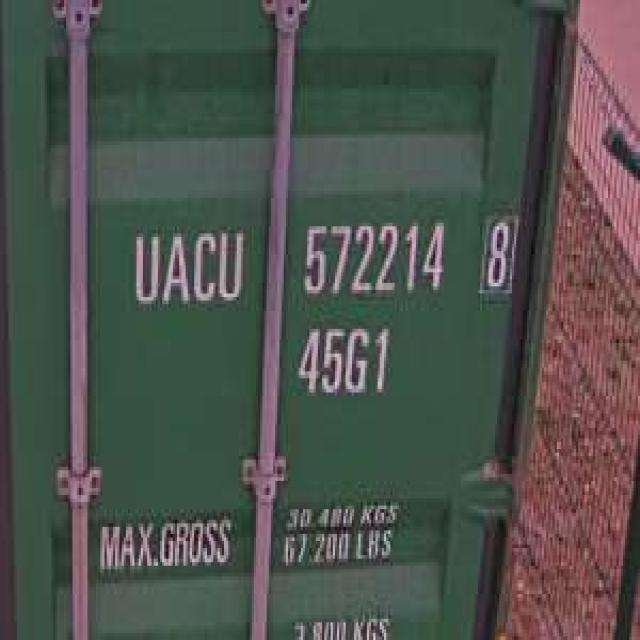dv: (476, 205, 518, 301)
owner: (126, 219, 247, 315)
serial: (297, 209, 448, 304)
size: (292, 314, 390, 406)
